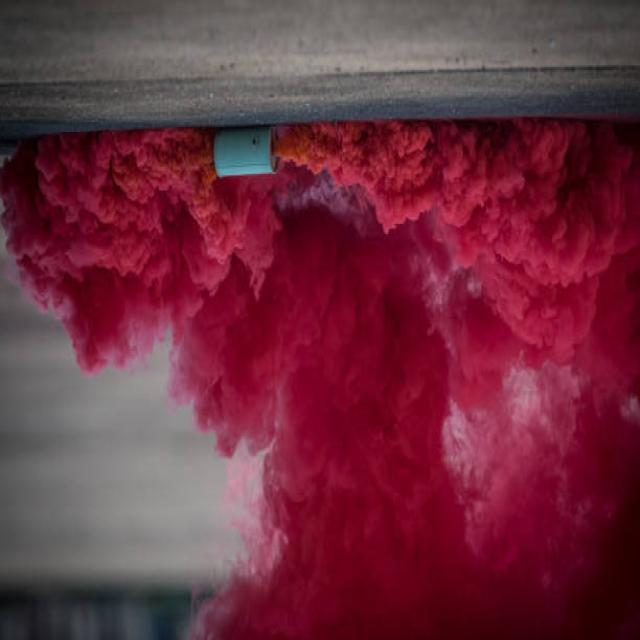grenade: (209, 120, 288, 191)
